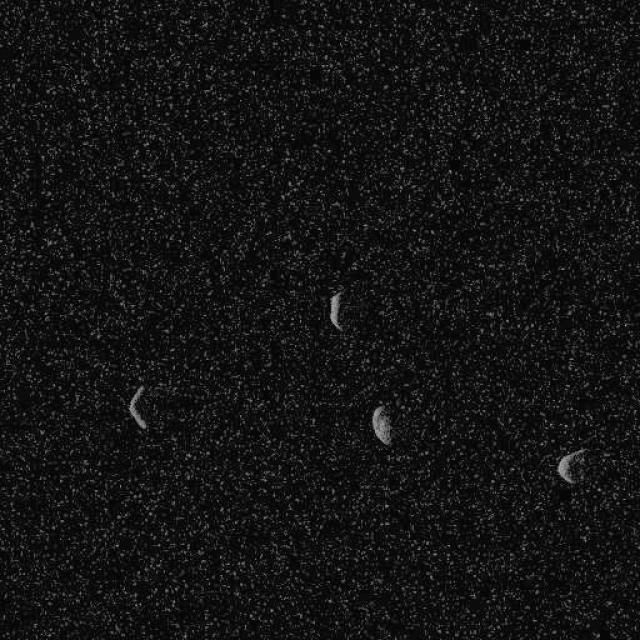D2: (555, 446, 586, 485), (126, 384, 148, 430), (370, 404, 392, 446), (328, 289, 343, 331)
